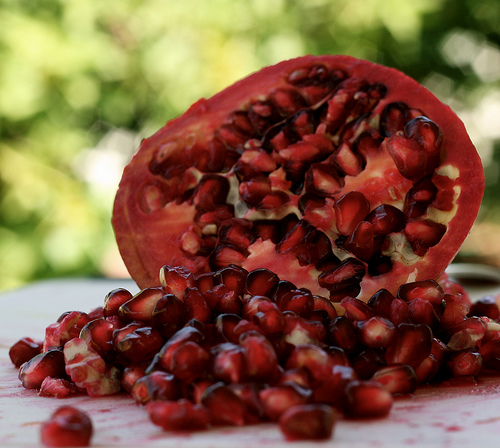pomogranate: (5, 52, 498, 444)
